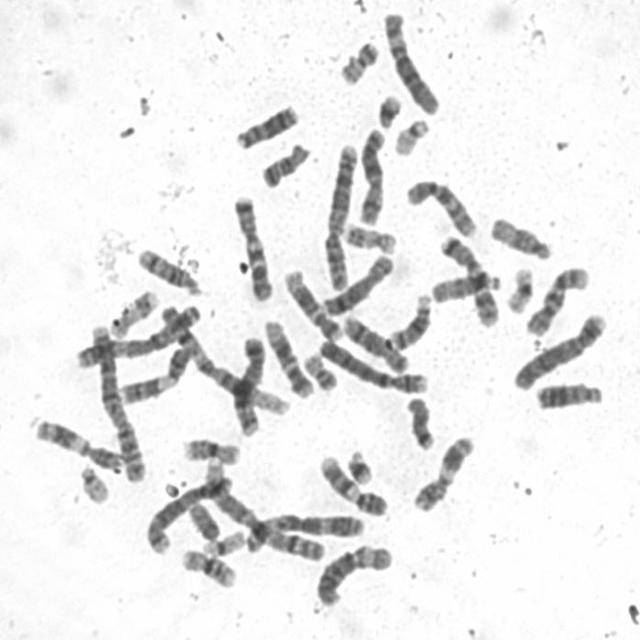A1: (150, 297, 292, 417), (198, 451, 329, 564)
A2: (85, 316, 148, 482), (318, 136, 361, 292)
A3: (69, 296, 205, 370), (244, 513, 367, 556)
B4: (506, 305, 610, 392), (312, 331, 430, 396)
B5: (140, 468, 236, 556), (227, 328, 268, 438)
C10: (519, 258, 593, 337), (399, 170, 480, 239)
C11: (27, 410, 128, 473), (406, 428, 478, 514)
C12: (278, 261, 344, 342), (259, 311, 315, 399)
C6: (377, 4, 443, 116), (309, 536, 395, 608)
C7: (433, 227, 502, 328), (227, 187, 276, 303)
C8: (316, 246, 397, 316), (336, 306, 412, 374)
C9: (313, 447, 391, 517), (118, 351, 196, 403)
D13: (229, 96, 300, 150), (529, 373, 606, 412)
D14: (131, 240, 204, 297), (383, 287, 434, 350)
D15: (484, 208, 556, 262), (424, 263, 503, 305)
E16: (175, 541, 238, 589), (177, 431, 242, 466)
E17: (103, 281, 161, 339), (336, 215, 399, 255)
E18: (255, 134, 312, 188), (400, 388, 438, 452)
F19: (500, 260, 536, 314), (196, 523, 248, 557)
F20: (333, 33, 382, 86), (296, 345, 340, 392)
G21: (340, 442, 376, 487), (371, 86, 403, 130)
G22: (387, 111, 432, 157), (73, 457, 112, 504)
X: (352, 120, 388, 227)
Y: (182, 494, 223, 542)
